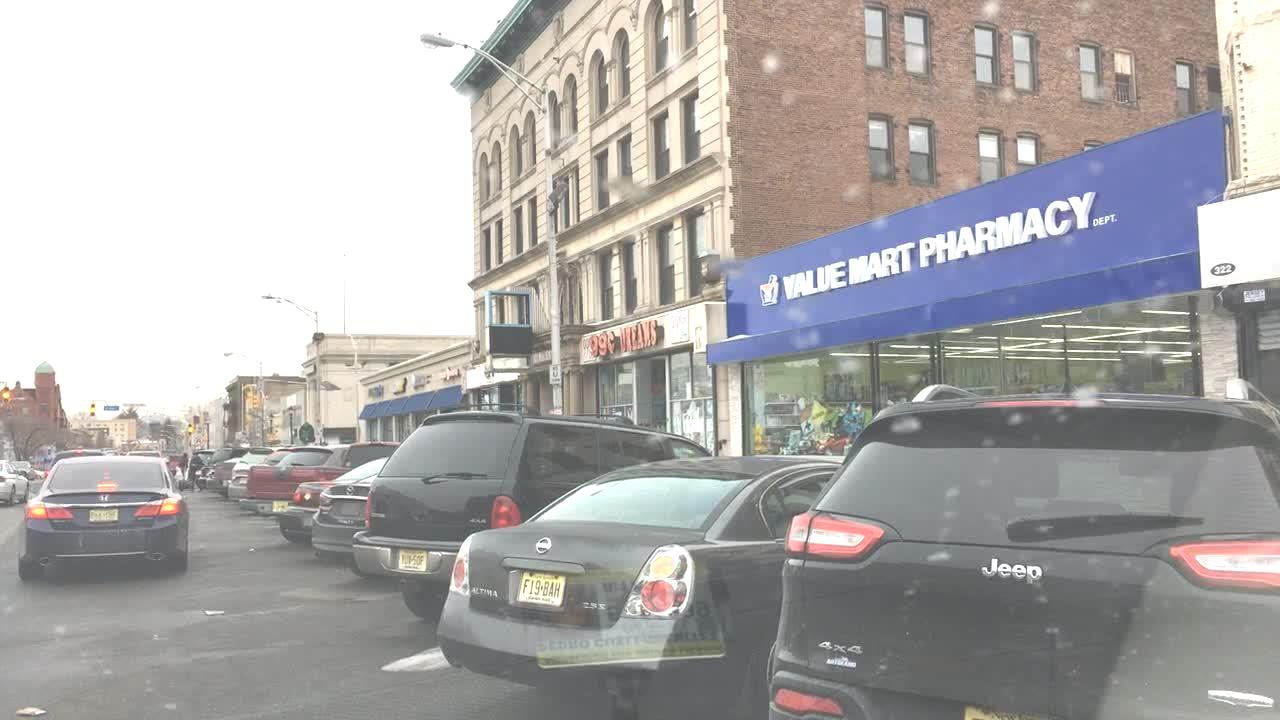Honda: (96, 489, 114, 508)
Mazda: (342, 485, 358, 497)
Nissan: (529, 531, 557, 558)
jeep: (960, 548, 1057, 602)
